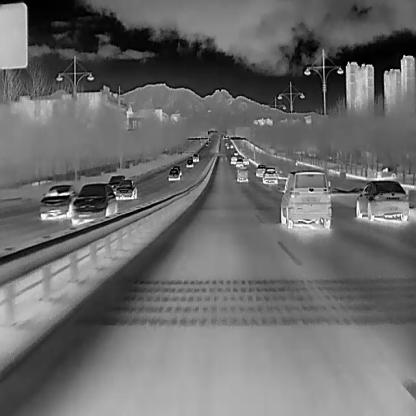car: (280, 170, 332, 228), (355, 180, 409, 221), (70, 183, 117, 224), (38, 183, 75, 219), (114, 179, 136, 200), (107, 174, 124, 189), (262, 168, 277, 184), (166, 168, 180, 180), (255, 164, 266, 176), (171, 163, 181, 174), (235, 158, 244, 168), (230, 154, 237, 164), (242, 156, 249, 165), (186, 156, 192, 166), (233, 151, 238, 156), (230, 143, 233, 148), (205, 142, 208, 146), (225, 145, 228, 148), (207, 139, 210, 142), (225, 142, 227, 146)
truck: (236, 167, 248, 182), (192, 151, 199, 162)
